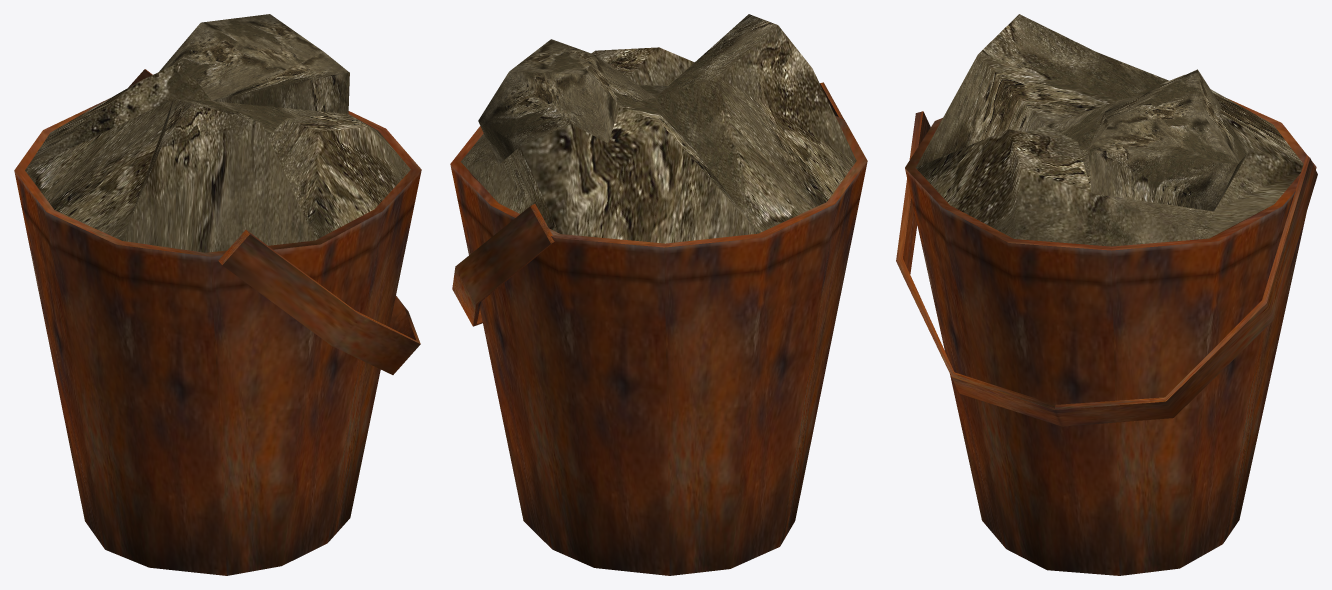
File: cave_rusty_bucket.fbx
3 views of the same model, side by side, from view 1: azimuth 30°, elevation 25°; view 2: azimuth 150°, elevation 25°; view 3: azimuth 270°, elevation 25° (orthographic). The views are drawn at different scales.
Visible parts, largest first — view 1: bucket_1, rocks, bucket_handle; view 2: bucket_1, rocks, bucket_handle; view 3: bucket_1, rocks, bucket_handle.
Boxes of the visible parts, x1=… form: bucket_1: x1=14, y1=98, x2=421, y2=575; rocks: x1=25, y1=14, x2=410, y2=252; bucket_handle: x1=128, y1=69, x2=420, y2=374; bucket_1: x1=450, y1=116, x2=867, y2=575; rocks: x1=460, y1=14, x2=856, y2=243; bucket_handle: x1=452, y1=82, x2=843, y2=326; bucket_1: x1=905, y1=99, x2=1316, y2=575; rocks: x1=915, y1=14, x2=1303, y2=246; bucket_handle: x1=896, y1=111, x2=1317, y2=426.
Bounding box in the file's own units: 193 × 249 × 202.
Materials: 1 (1 with a texture image).
